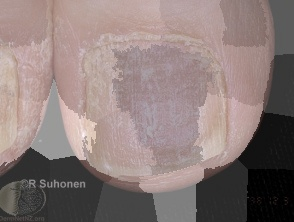Nail_psoriasis: (68, 15, 231, 120)
